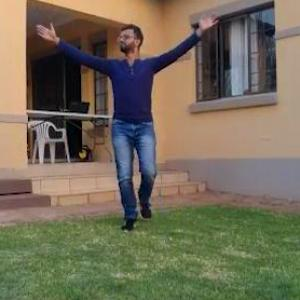takeoff: (35, 3, 233, 220)
